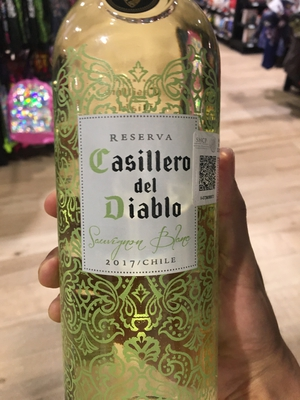casillero del diablo sauvignon blanc: (48, 4, 228, 396)
